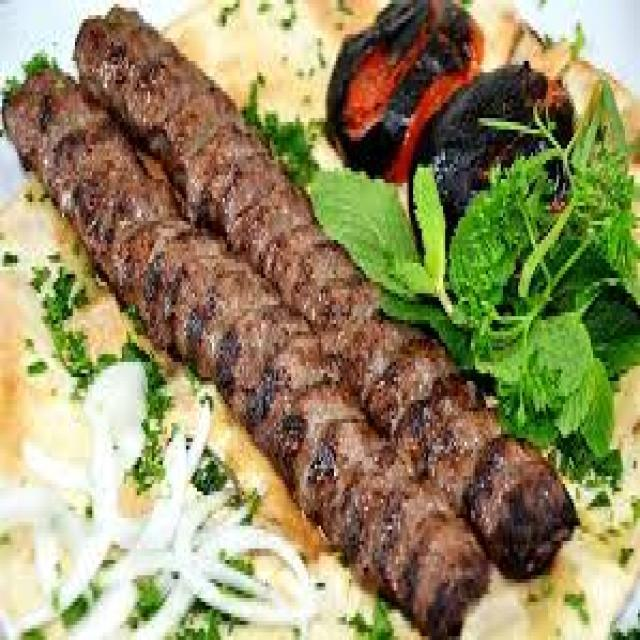Wet: (7, 50, 487, 640)
